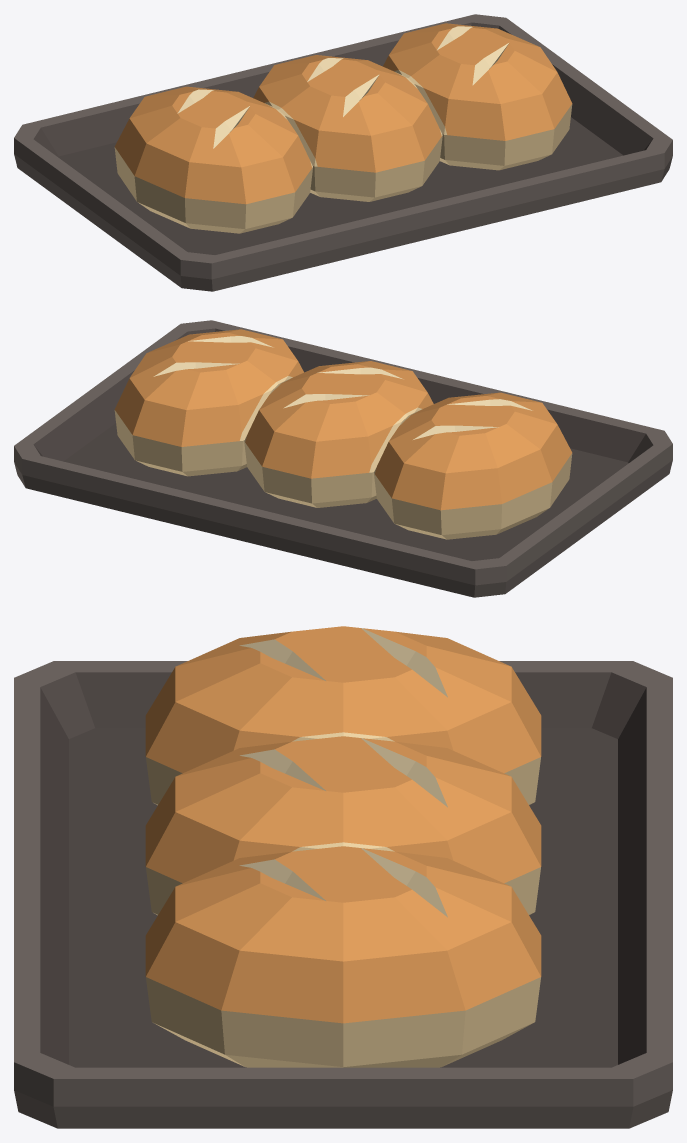
Rendered from FMS_Workshop_PRD_13.fbx.
3 views of the same model, one above another, from view 1: azimuth 30°, elevation 25°; view 2: azimuth 150°, elevation 25°; view 3: azimuth 270°, elevation 25° (orthographic). The views are drawn at different scales.
Parts seen in each view (by area): view 1: FMS_Workshop_PRD_13_Body; view 2: FMS_Workshop_PRD_13_Body; view 3: FMS_Workshop_PRD_13_Body.
Boxes of the visible parts, <box> form: FMS_Workshop_PRD_13_Body: <box>14,14,672,291</box>; FMS_Workshop_PRD_13_Body: <box>14,320,672,597</box>; FMS_Workshop_PRD_13_Body: <box>14,626,672,1128</box>.
Size of the model in its own units: 0.45 by 0.079 by 0.3.
